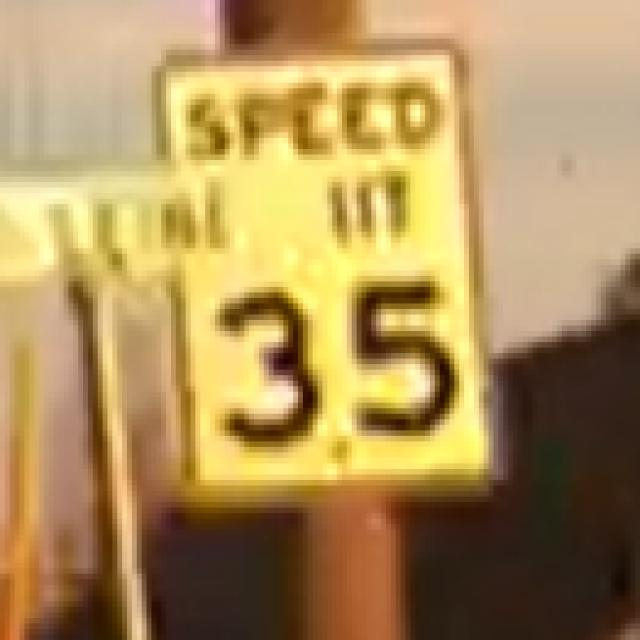speedLimit35: (156, 45, 483, 488)
